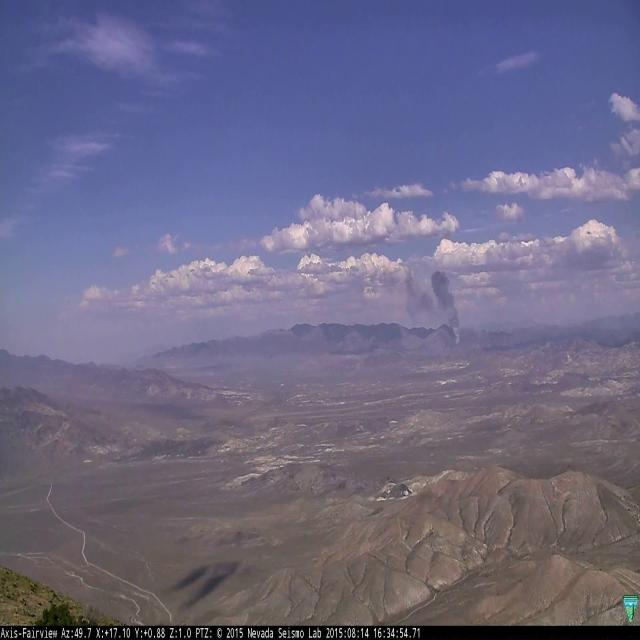smoke: (405, 264, 462, 344)
